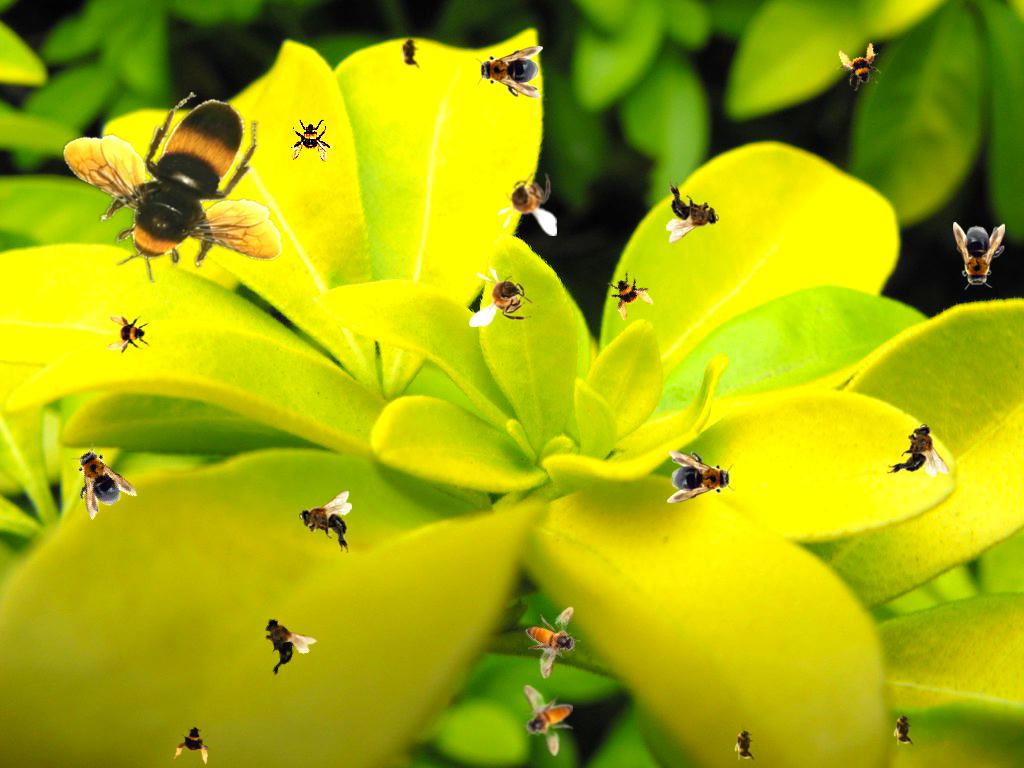Bee: (62, 92, 282, 283), (510, 594, 596, 681), (58, 436, 138, 522), (239, 602, 322, 684), (469, 266, 539, 327), (496, 166, 557, 236), (599, 263, 661, 325), (523, 685, 573, 756), (475, 46, 543, 98), (953, 222, 1005, 290), (667, 451, 735, 503), (299, 491, 352, 553), (887, 424, 949, 477), (666, 181, 719, 243), (831, 39, 887, 95), (170, 718, 220, 768), (106, 313, 150, 357), (290, 119, 334, 163), (399, 32, 421, 72), (734, 724, 756, 764), (893, 709, 915, 749)
